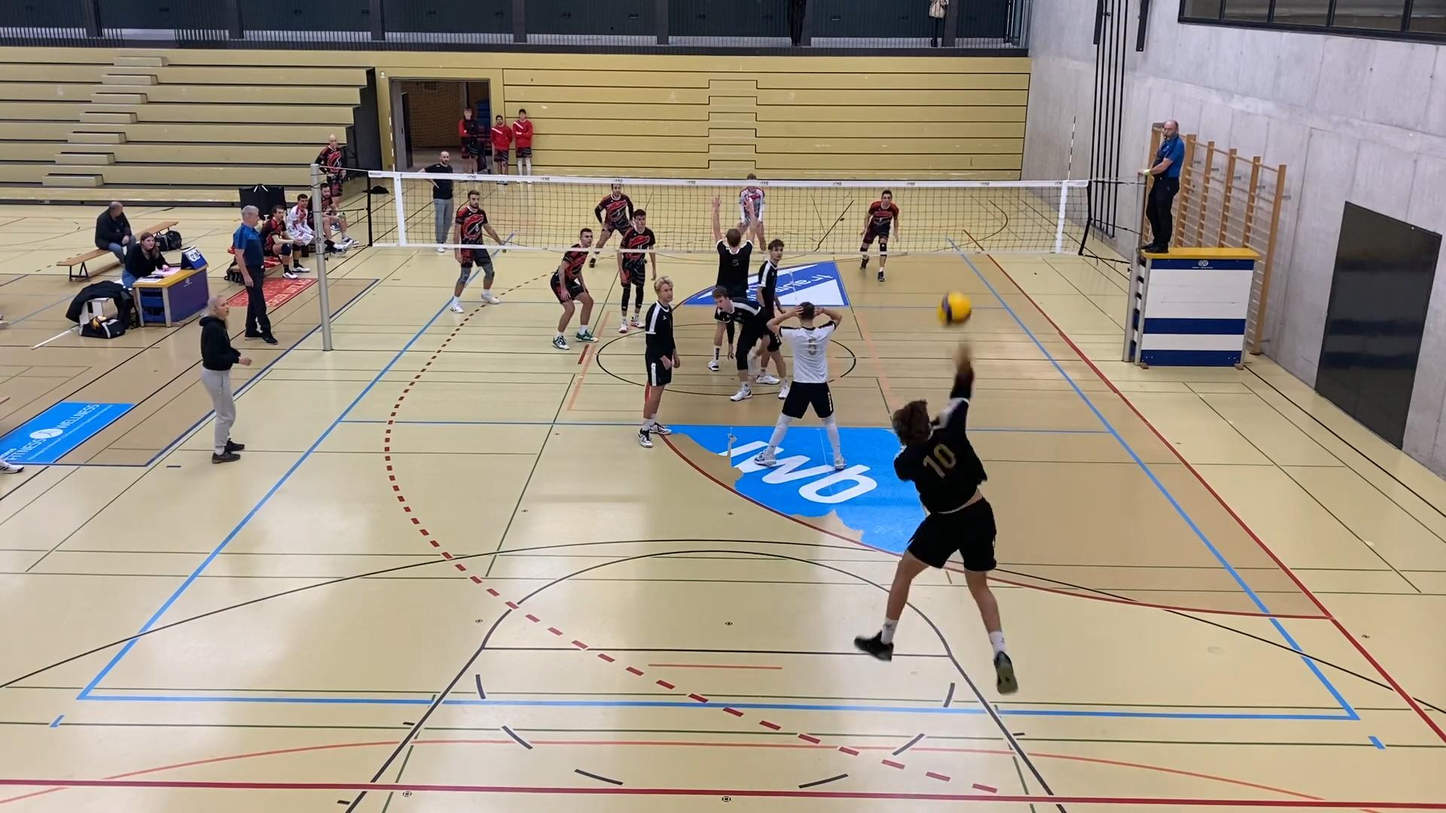Player: (754, 303, 846, 470), (639, 276, 679, 447), (449, 190, 502, 312), (712, 287, 766, 400), (551, 228, 596, 349), (617, 210, 656, 333), (711, 197, 752, 300), (860, 190, 898, 282), (595, 184, 633, 251), (758, 239, 783, 320), (738, 173, 764, 245)
Serve: (849, 330, 1024, 696)
ball: (942, 289, 976, 325)
